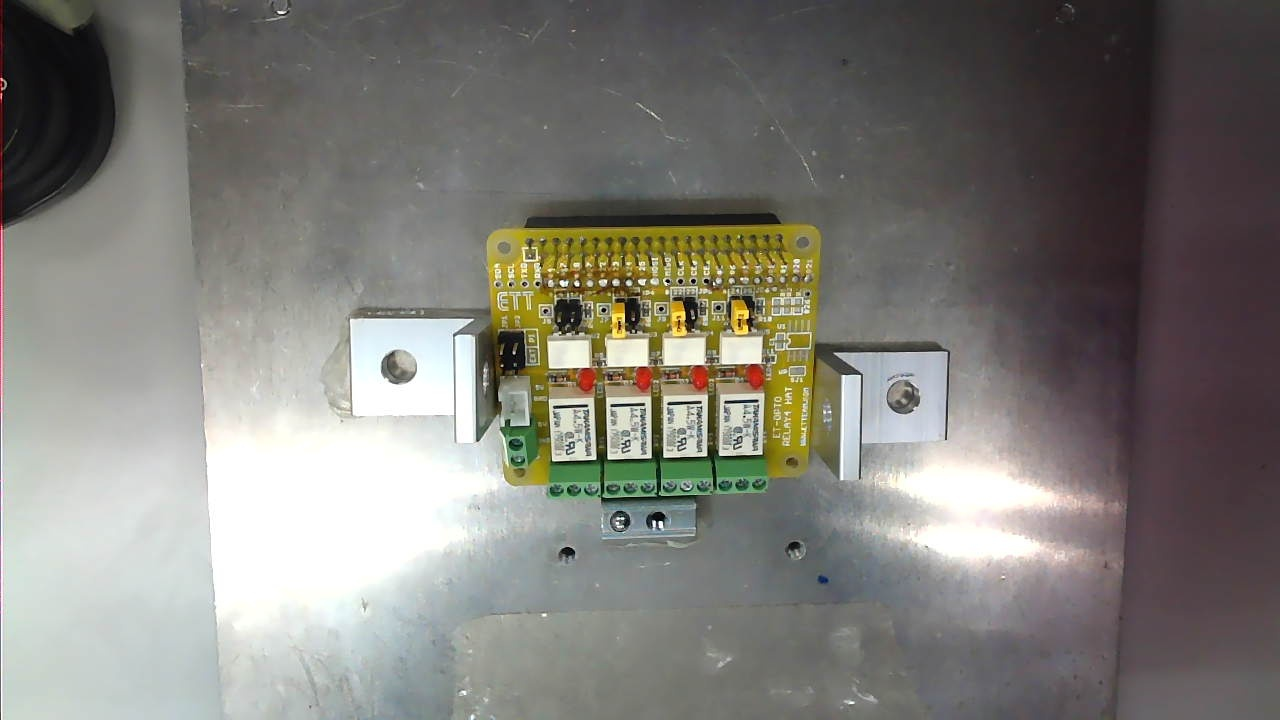ry: (544, 374, 598, 462), (713, 366, 765, 457), (657, 366, 708, 458), (603, 368, 653, 460)
